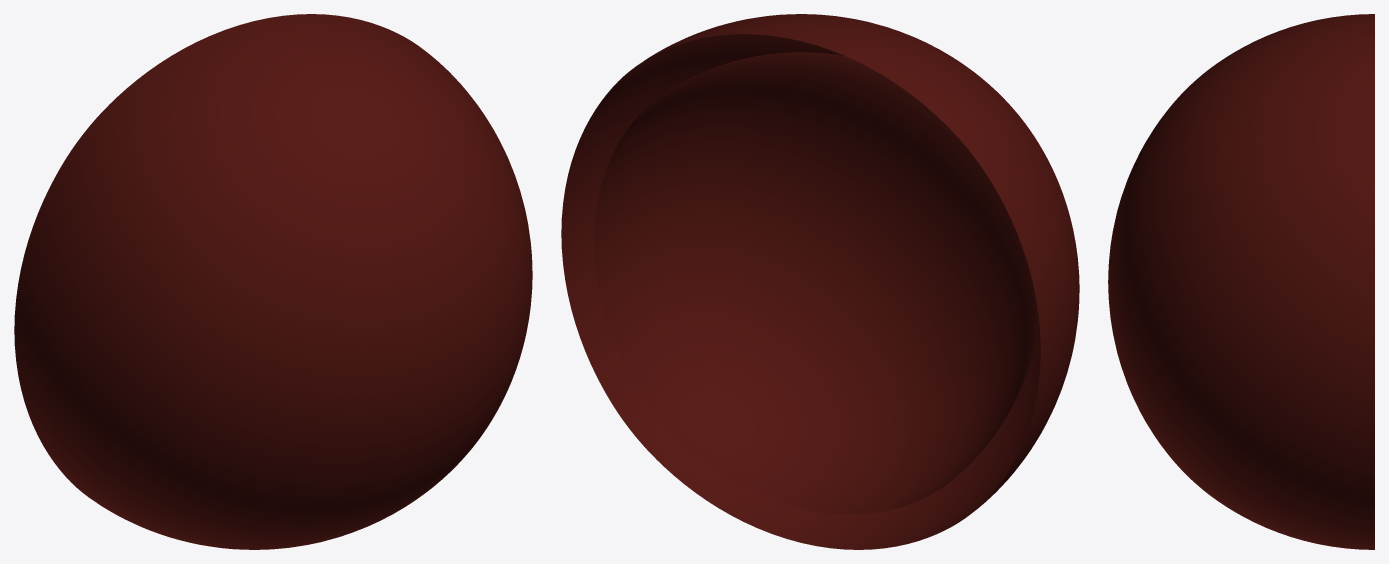
Rendered from CarrotPlanet.fbx.
3 renders of one model, left to right at view 1: azimuth 30°, elevation 25°; view 2: azimuth 150°, elevation 25°; view 3: azimuth 270°, elevation 25°, orthographic. The views are drawn at different scales.
Parts seen in each view (by area): view 1: Outer_Surface; view 2: Outer_Surface; view 3: Outer_Surface.
Part boxes in pixels (box(x1,y1,x2,y2)): Outer_Surface: box(14, 14, 532, 549); Outer_Surface: box(561, 14, 1079, 549); Outer_Surface: box(1108, 14, 1374, 549).
Size of the model in its own units: 49.08 by 49.08 by 24.54.
